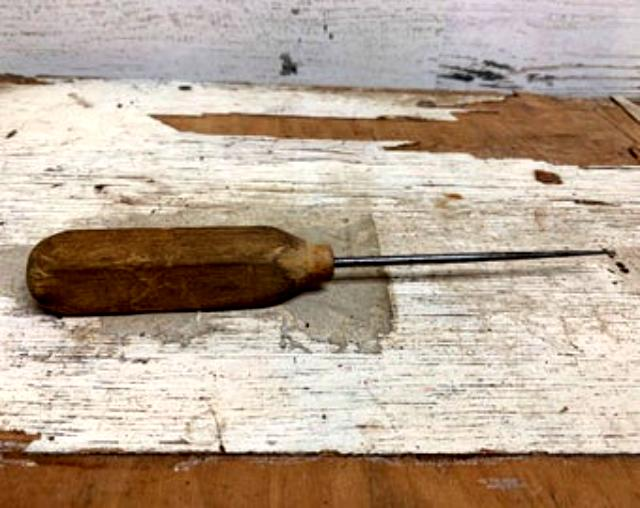ice pick: (27, 225, 611, 315)
